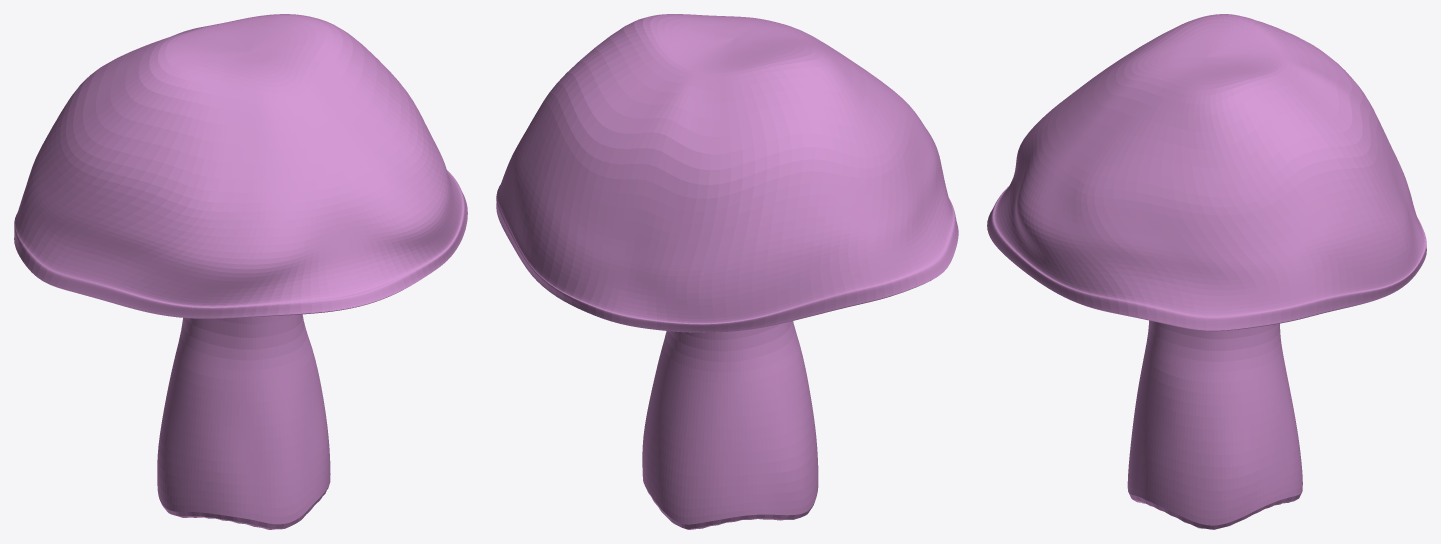
Rendered from podosinnovik.fbx.
3 views of the same model, side by side, from view 1: azimuth 30°, elevation 25°; view 2: azimuth 150°, elevation 25°; view 3: azimuth 270°, elevation 25° (orthographic). The views are drawn at different scales.
Parts seen in each view (by area): view 1: Cylinder; view 2: Cylinder; view 3: Cylinder.
Part boxes in pixels (x1=…): Cylinder: x1=14, y1=14, x2=467, y2=529; Cylinder: x1=496, y1=14, x2=958, y2=529; Cylinder: x1=987, y1=14, x2=1426, y2=529.
Bounding box in the file's own units: 126 × 135 × 120.
